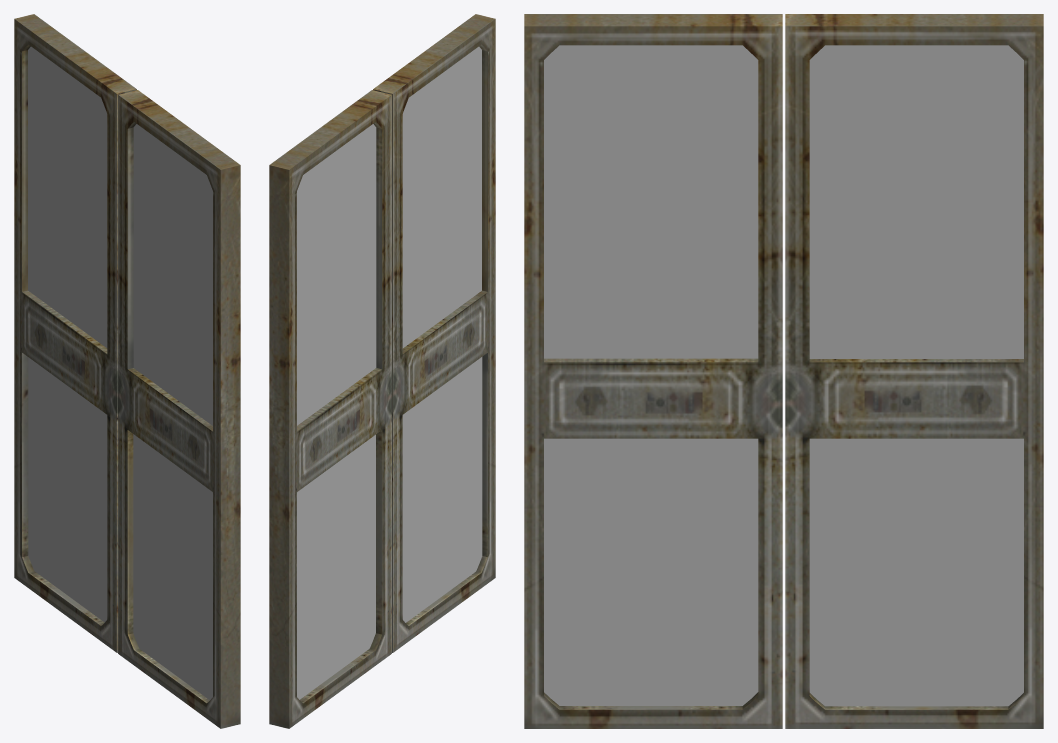
The model's file is door_air_lock.dae.
The picture shows the model from 3 angles, left to right: view 1: azimuth 30°, elevation 25°; view 2: azimuth 150°, elevation 25°; view 3: azimuth 270°, elevation 25°; orthographic projection. The views are drawn at different scales.
Parts seen in each view (by area): view 1: window1, window2, door1, door2; view 2: window1, window2, door2, door1; view 3: window2, window1, door1, door2.
Boxes of the visible parts, x1=… form: window1: x1=133, y1=124, x2=212, y2=699; window2: x1=28, y1=46, x2=107, y2=622; door1: x1=118, y1=90, x2=240, y2=728; door2: x1=14, y1=14, x2=136, y2=652; window1: x1=402, y1=46, x2=482, y2=622; window2: x1=297, y1=124, x2=376, y2=699; door2: x1=269, y1=90, x2=391, y2=728; door1: x1=373, y1=14, x2=495, y2=652; window2: x1=809, y1=45, x2=1023, y2=706; window1: x1=544, y1=45, x2=758, y2=705; door1: x1=524, y1=14, x2=782, y2=728; door2: x1=785, y1=14, x2=1043, y2=728.
Bounding box in the file's own units: 0.0832 × 1.49 × 2.23.
